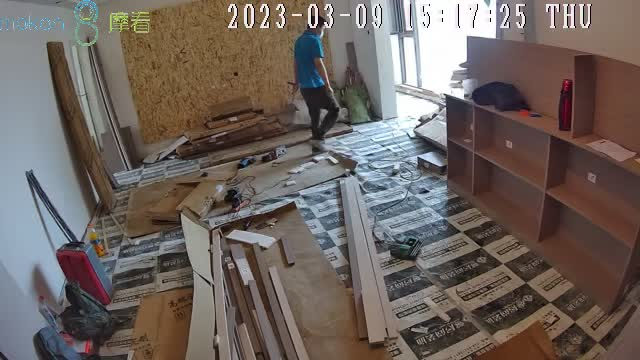people: (293, 16, 340, 154)
window: (391, 1, 497, 90)
